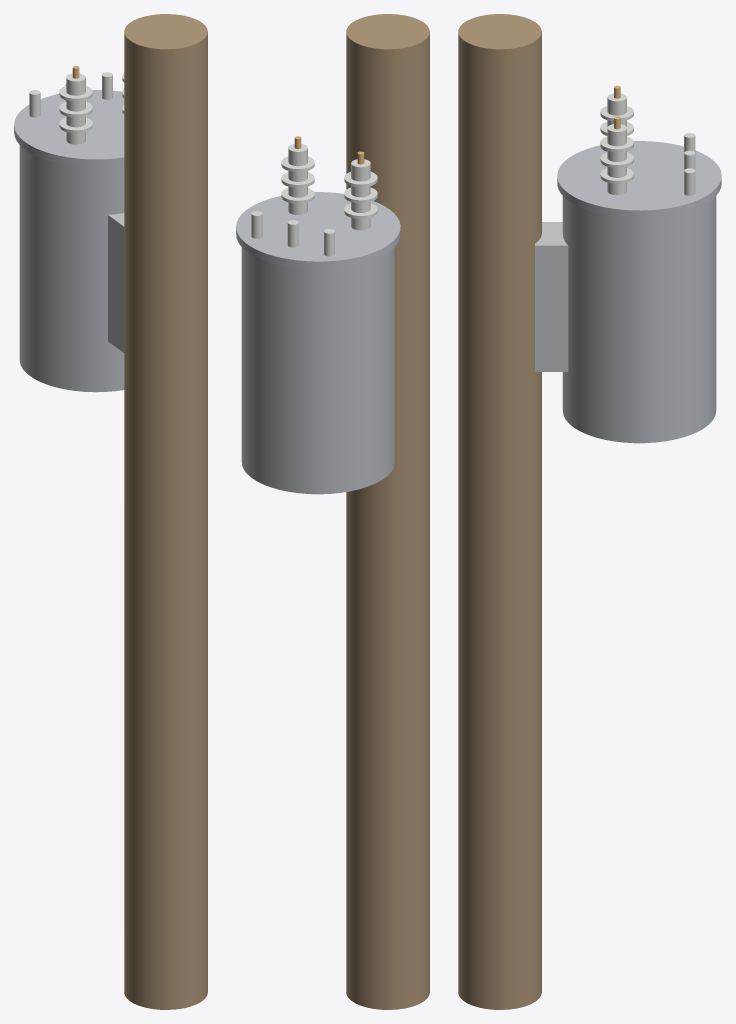
Rendered from transformer.glb.
3 renders of one model, left to right at view 1: azimuth 30°, elevation 25°; view 2: azimuth 150°, elevation 25°; view 3: azimuth 270°, elevation 25°, orthographic.
Parts seen in each view (by area): view 1: transformer; view 2: transformer; view 3: transformer.
Boxes of the visible parts, x1,y1,x2,y2 form: transformer: (14, 14, 207, 1009); transformer: (236, 14, 429, 1009); transformer: (458, 14, 721, 1009).
Size of the model in its own units: 0.5897 by 3.8 by 0.945.
